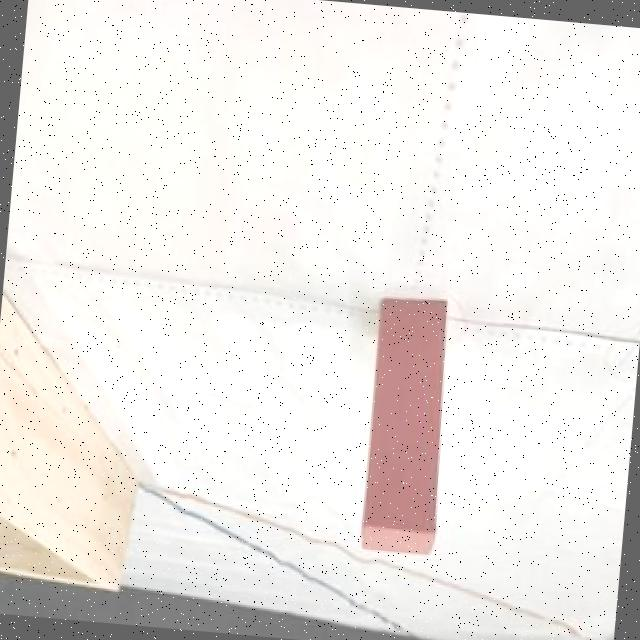redbox: (360, 292, 456, 554)
